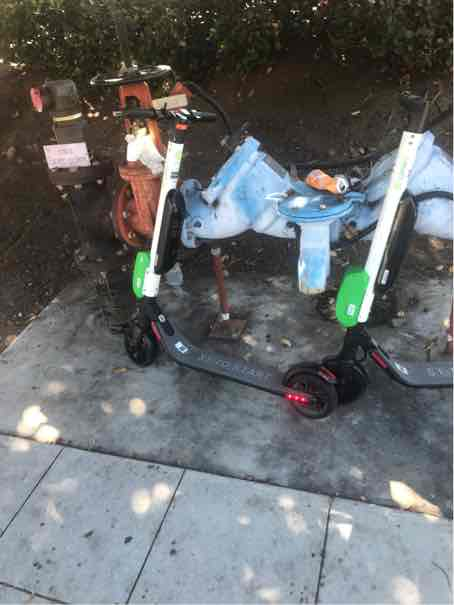scooter: (108, 97, 345, 421)
